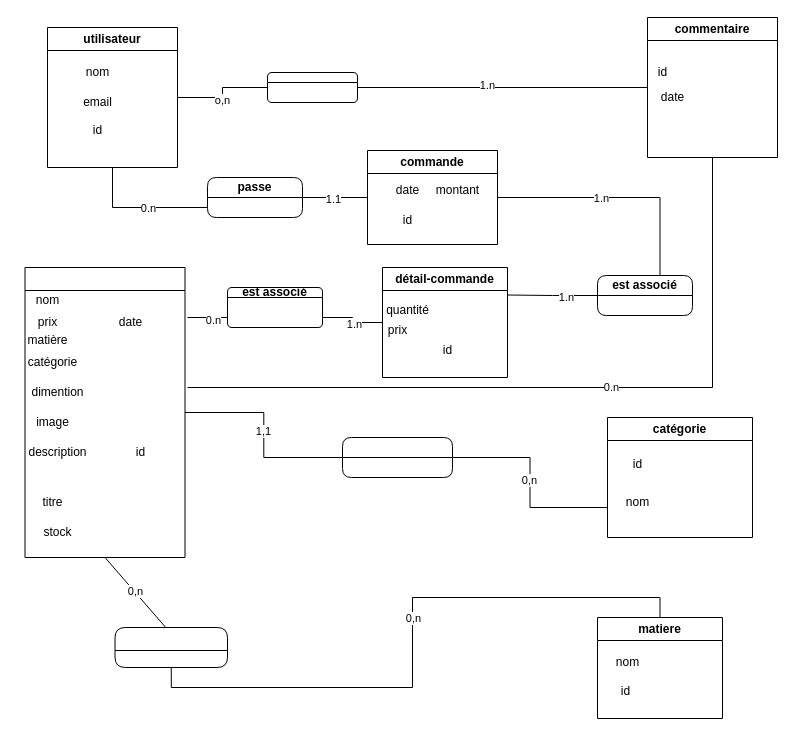
Some shapes in this 795 by 736 pixel diagram are drawn without their labels. Each missing label, with the box of its shape:
appartient: (342, 436, 452, 478)
est composé de: (114, 626, 228, 668)
oeuvre: (24, 266, 185, 558)
écrire: (266, 72, 358, 102)
